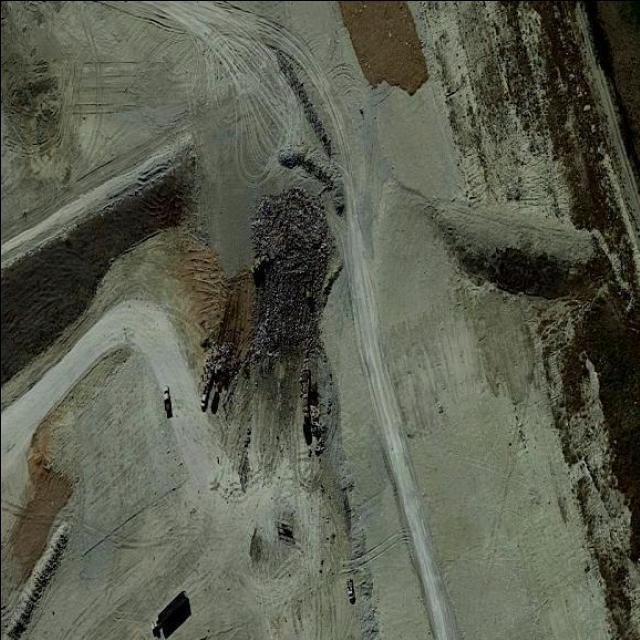dump_site: (198, 331, 249, 405)
